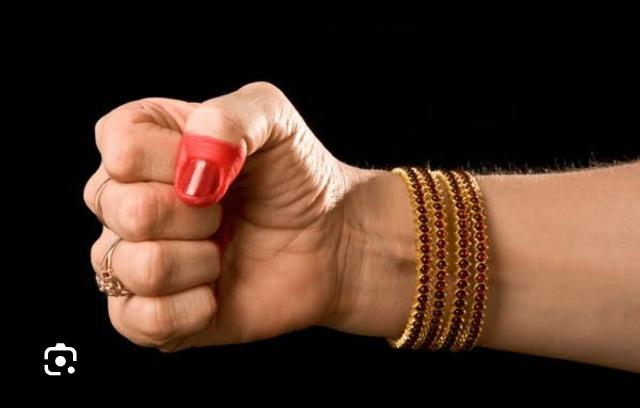mushti: (82, 81, 423, 357)
